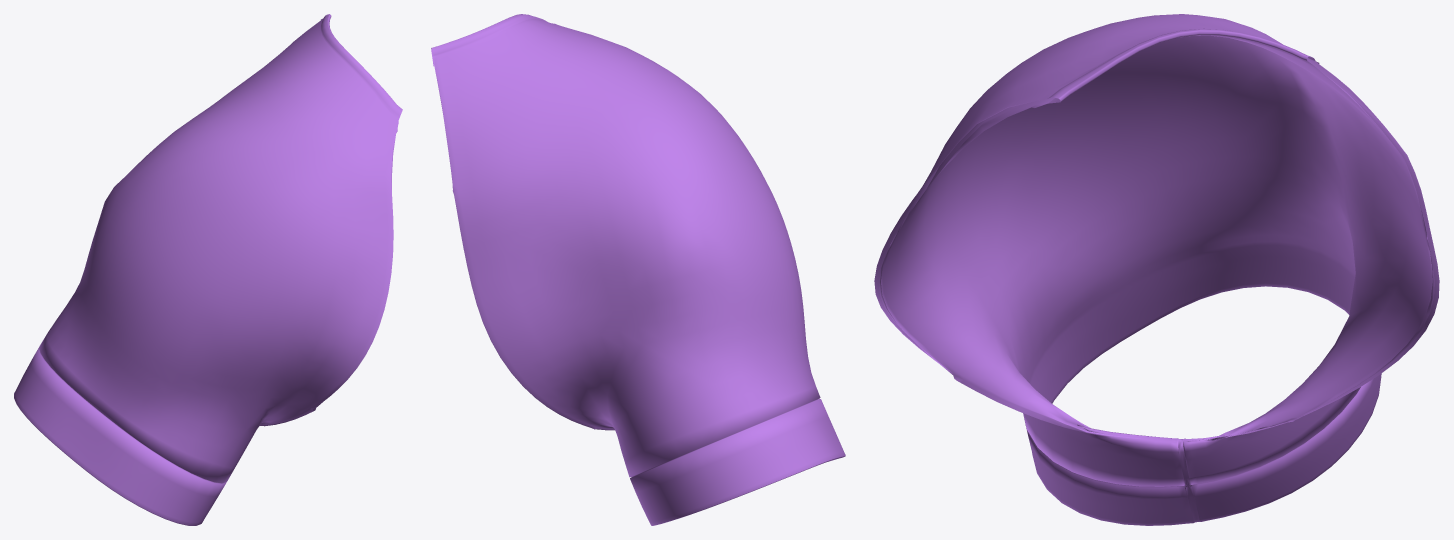
Rendered from manga-R.glb.
The picture shows the model from 3 angles, left to right: view 1: azimuth 30°, elevation 25°; view 2: azimuth 150°, elevation 25°; view 3: azimuth 270°, elevation 25°; orthographic projection. The views are drawn at different scales.
Visible parts, largest first — view 1: manga-R; view 2: manga-R; view 3: manga-R.
Boxes of the visible parts, <box> form: manga-R: <box>14,14,402,525</box>; manga-R: <box>431,14,845,525</box>; manga-R: <box>874,14,1439,525</box>.
Bounding box in the file's own units: 0.2294 × 0.275 × 0.229.
